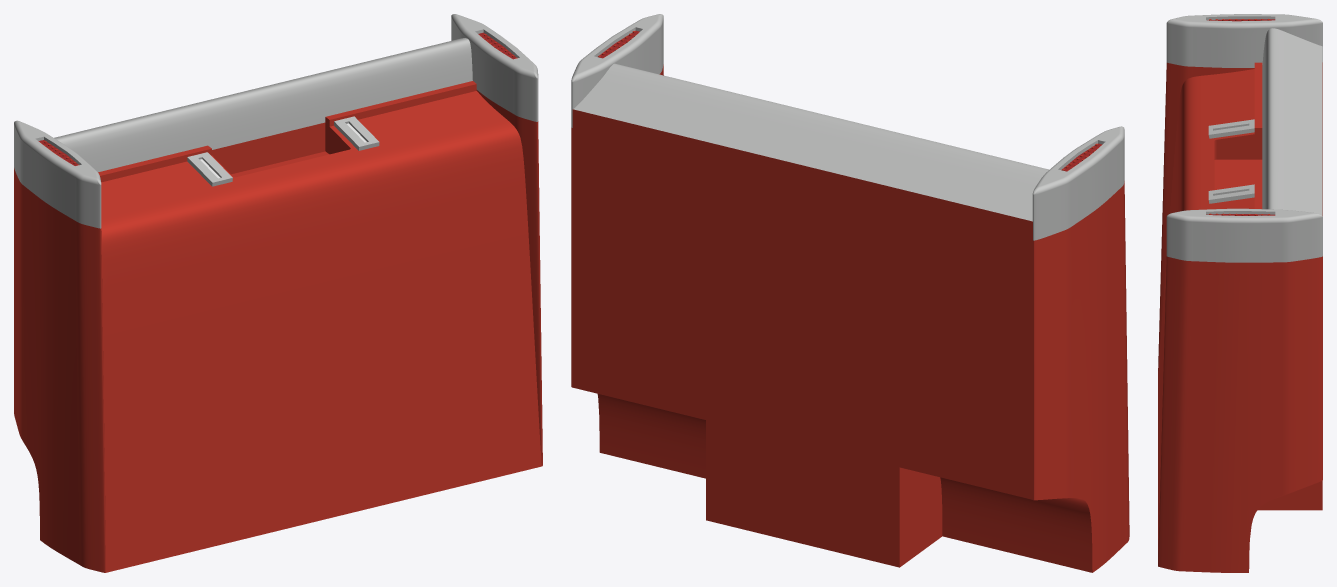
The model's file is fleetwood_trunk v3.fbx.
3 renders of one model, left to right at view 1: azimuth 30°, elevation 25°; view 2: azimuth 150°, elevation 25°; view 3: azimuth 270°, elevation 25°, orthographic. The views are drawn at different scales.
Parts seen in each view (by area): view 1: Body3; view 2: Body3; view 3: Body3.
Boxes of the visible parts, x1,y1,x2,y2 form: Body3: (14,14,542,572); Body3: (571,14,1129,572); Body3: (1158,14,1322,572).
Size of the model in its own units: 113 by 90 by 38.06.
